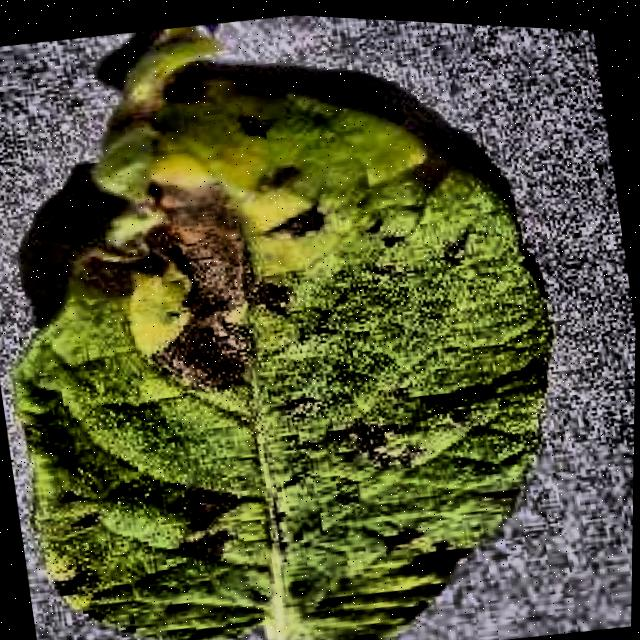Potato_leaf_early_blight: (14, 27, 549, 640)
